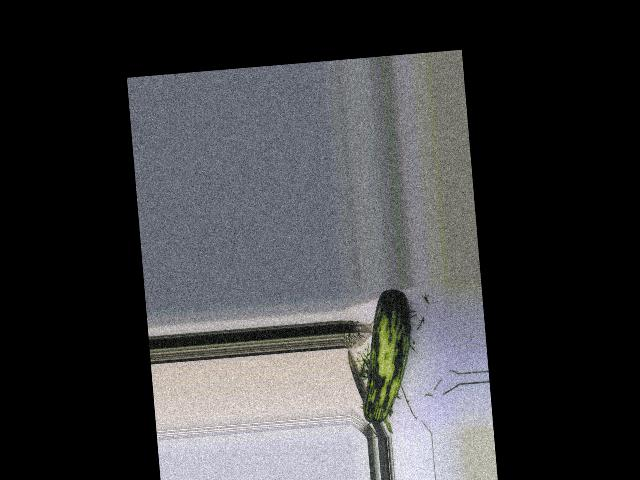cucumber: (353, 288, 419, 425)
